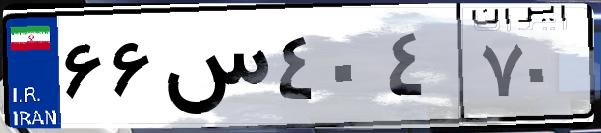0: (330, 28, 385, 110), (525, 38, 570, 115)
4: (270, 28, 330, 110), (385, 28, 445, 110)
6: (57, 26, 110, 100), (110, 28, 158, 98)
7: (475, 38, 525, 113)
س: (158, 20, 270, 120)
